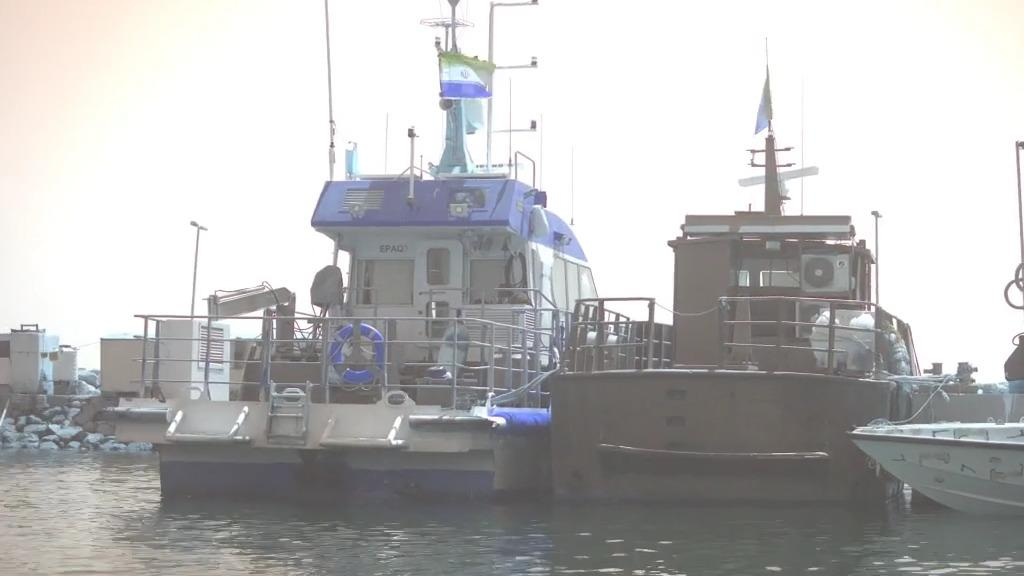PassengerShip: (141, 40, 617, 520), (538, 79, 956, 518)
